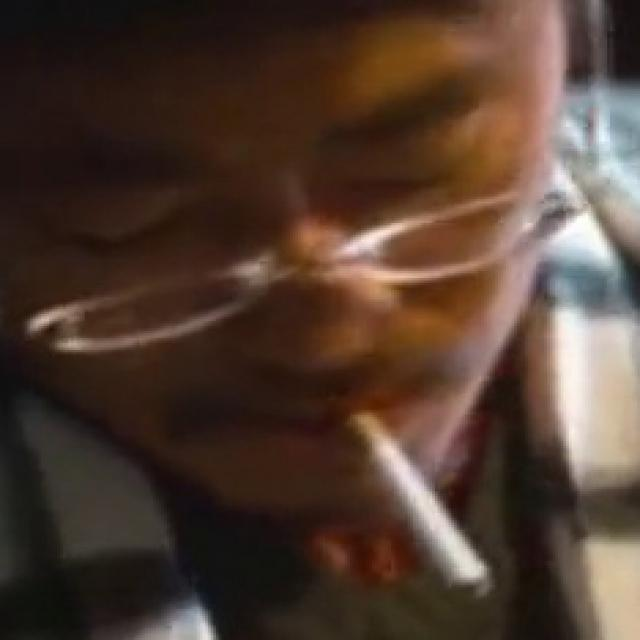smoking: (342, 408, 492, 592)
